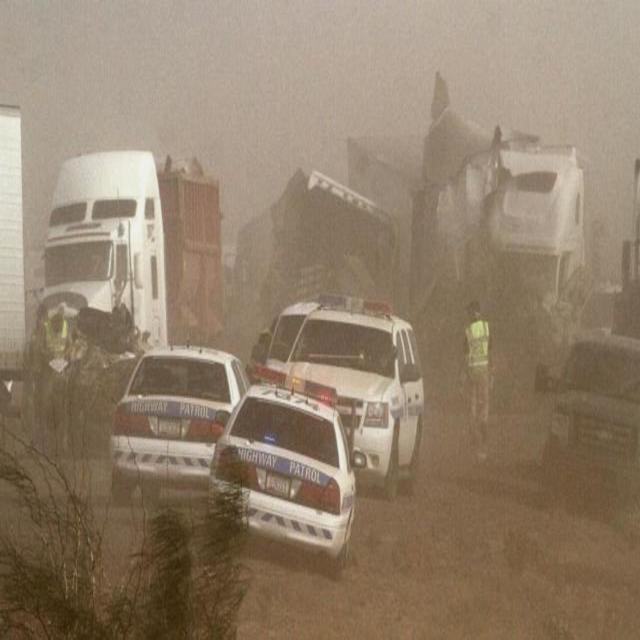Car: (280, 279, 424, 498), (212, 370, 362, 566), (104, 334, 248, 496), (528, 312, 640, 514)
Truck: (26, 136, 230, 414)
